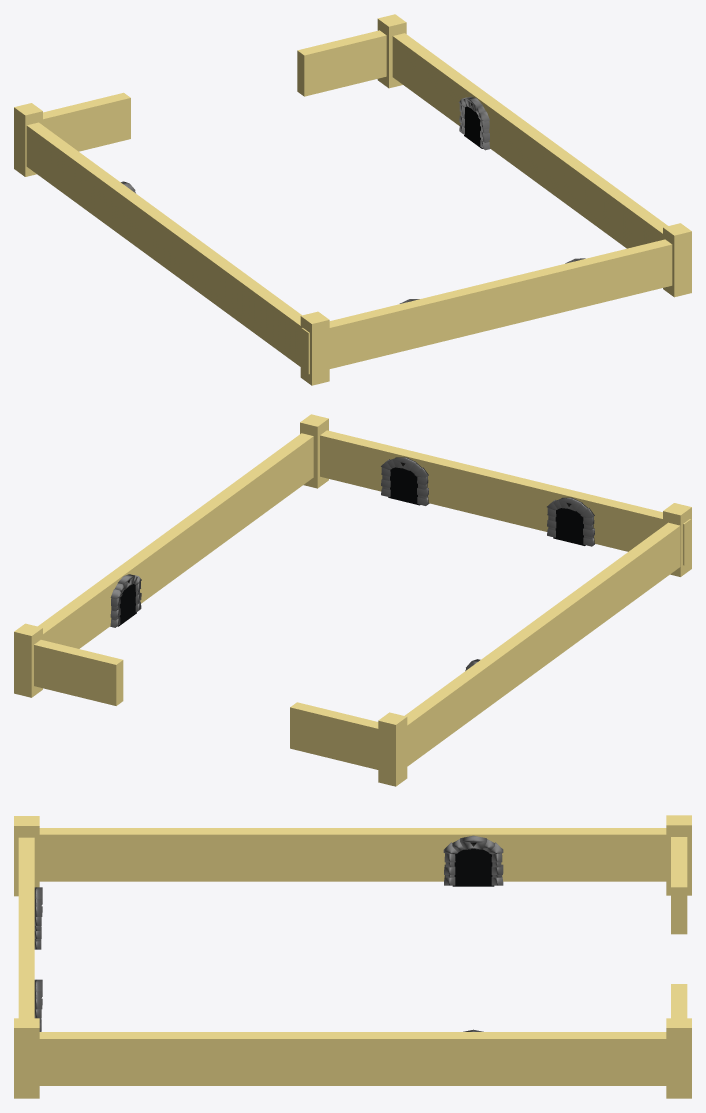
File: wall.obj
3 renders of one model, top to bottom at view 1: azimuth 30°, elevation 25°; view 2: azimuth 150°, elevation 25°; view 3: azimuth 270°, elevation 25°, orthographic. The views are drawn at different scales.
Visible parts, largest first — view 1: Cube.018; view 2: Cube.018; view 3: Cube.018.
Boxes of the visible parts, x1,y1,x2,y2 form: Cube.018: (14, 14, 691, 385); Cube.018: (14, 414, 691, 786); Cube.018: (14, 815, 691, 1098).
Bounding box in the file's own units: 13.78 × 2.13 × 18.57.
